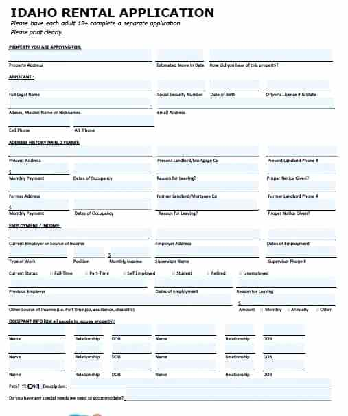checkbox: (38, 383, 45, 391), (27, 383, 32, 390)
textline: (67, 380, 334, 394), (7, 294, 233, 309), (124, 391, 335, 404), (156, 98, 337, 112), (8, 50, 153, 65), (8, 275, 151, 290), (5, 97, 154, 111), (207, 49, 334, 64), (6, 80, 152, 93), (7, 146, 153, 159), (8, 181, 154, 194), (7, 230, 153, 242), (235, 294, 339, 308), (156, 199, 259, 213), (155, 181, 262, 194), (234, 277, 338, 290), (155, 146, 262, 158), (155, 165, 258, 177), (72, 198, 152, 213), (154, 231, 262, 242), (154, 249, 260, 260), (72, 116, 156, 129), (265, 199, 336, 213), (152, 278, 233, 290), (266, 229, 336, 242), (71, 165, 153, 176), (264, 147, 339, 159), (265, 182, 340, 194), (5, 342, 69, 356), (264, 249, 338, 261), (8, 163, 69, 177), (8, 199, 69, 213), (7, 246, 68, 260), (7, 115, 71, 128), (154, 325, 218, 338), (154, 343, 218, 356), (262, 81, 330, 93), (5, 325, 67, 338), (5, 360, 67, 373), (266, 166, 336, 177), (155, 361, 217, 373), (207, 80, 262, 93), (155, 49, 205, 63), (154, 81, 208, 93), (261, 325, 308, 338), (108, 248, 152, 261), (109, 343, 153, 356), (109, 325, 152, 338), (262, 343, 308, 355), (262, 361, 308, 373), (109, 362, 154, 373), (71, 342, 108, 355), (71, 247, 106, 260), (223, 343, 258, 356), (71, 325, 107, 337), (222, 361, 258, 373), (224, 325, 255, 338), (73, 362, 106, 373)
